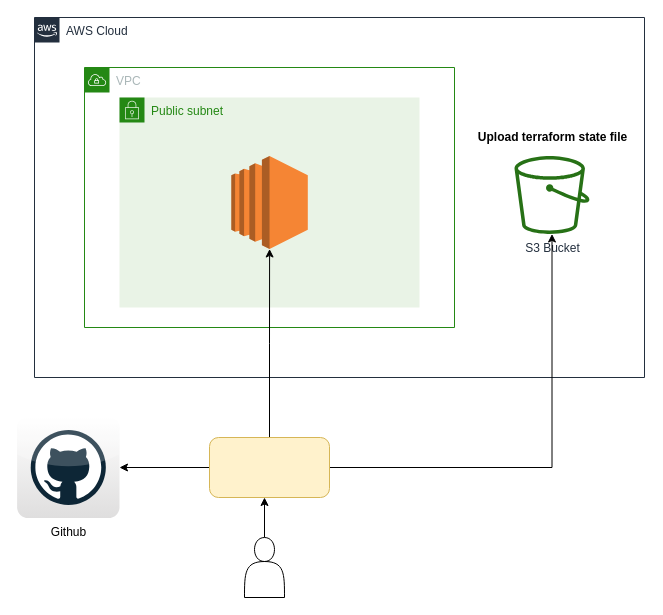
Some shapes in this 663 by 615 pixel diagram are drawn without their labels. The centre of each missing label's shape, as x and y in pixels:
"EC2 instance" goes at (x=269, y=202).
"terraform main.tf" goes at (x=269, y=467).
